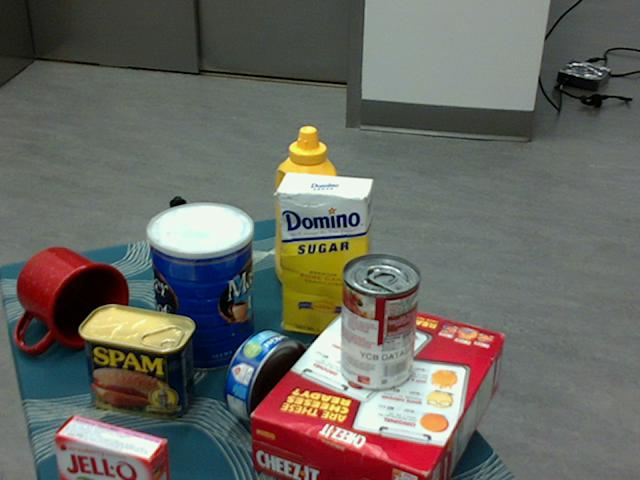cracker_box: (250, 297, 504, 479)
gelatin_box: (52, 412, 166, 479)
large_marker: (170, 195, 189, 294)
master_chef_can: (146, 202, 253, 372)
mug: (16, 246, 128, 352)
mustard_bottle: (275, 125, 337, 300)
potted_meat_can: (78, 302, 194, 417)
sugar_box: (277, 171, 373, 342)
tomato_soup_can: (338, 255, 420, 392)
tuna_fish_can: (223, 330, 308, 428)
